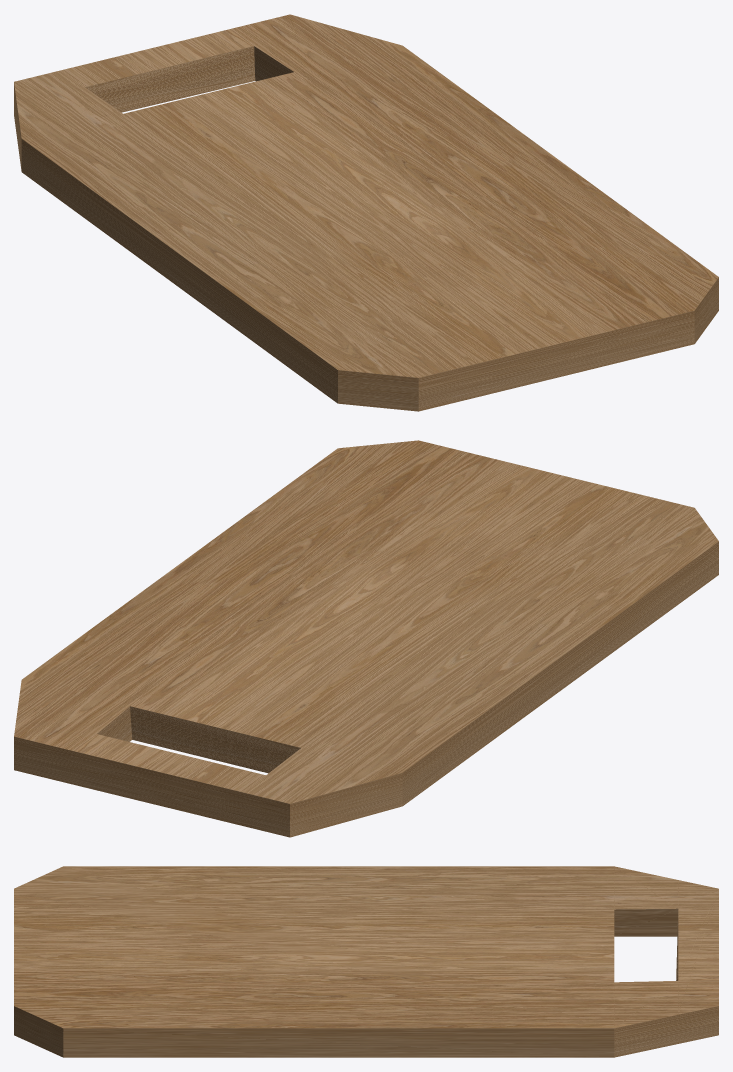
Rendered from Kärpänen_Leikkuulauta.fbx.
3 views of the same model, one above another, from view 1: azimuth 30°, elevation 25°; view 2: azimuth 150°, elevation 25°; view 3: azimuth 270°, elevation 25° (orthographic). The views are drawn at different scales.
Parts seen in each view (by area): view 1: Cube.101; view 2: Cube.101; view 3: Cube.101.
Boxes of the visible parts, x1,y1,x2,y2 form: Cube.101: (14, 14, 718, 411); Cube.101: (14, 440, 718, 837); Cube.101: (14, 866, 718, 1057).
Bounding box in the file's own units: 200 × 16.85 × 368.
1 material, 1 textured.
